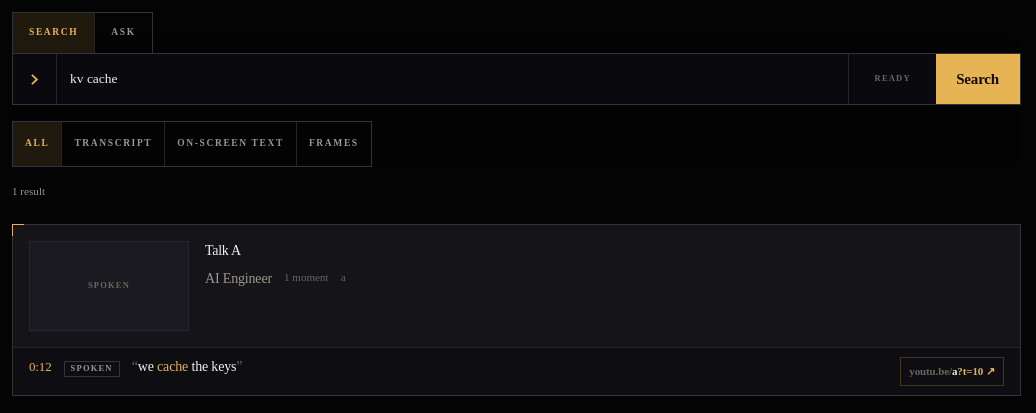
Test: the console in search mode › keeps the previous results when the new search is refused
Type " more" into the search field named "Search this video corpus" at (453, 79), box [57,54,848,104]
Then press Enter
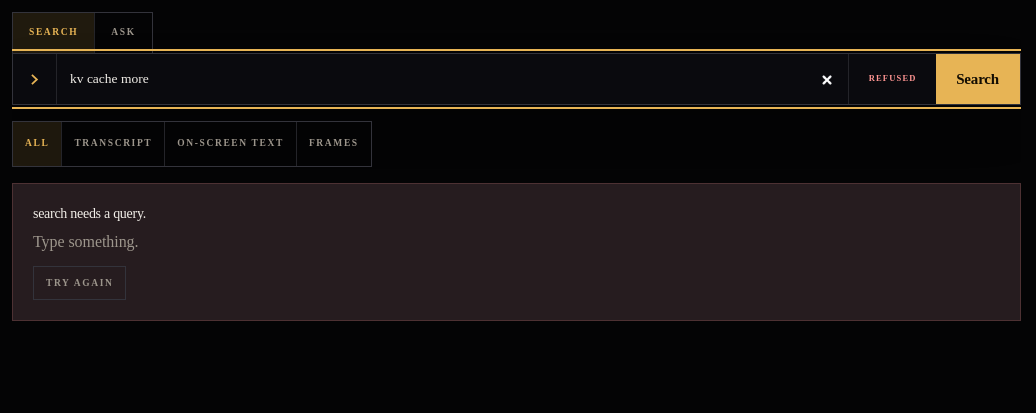
Result: the text "search needs a query." is shown at [33,206,146,221]
Result: the text "Type something." is shown at [33,233,138,250]
